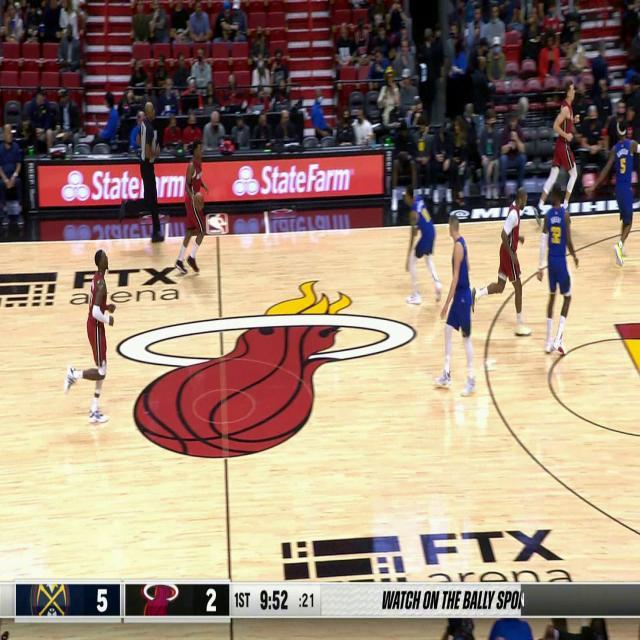rim: (194, 190, 204, 212)
